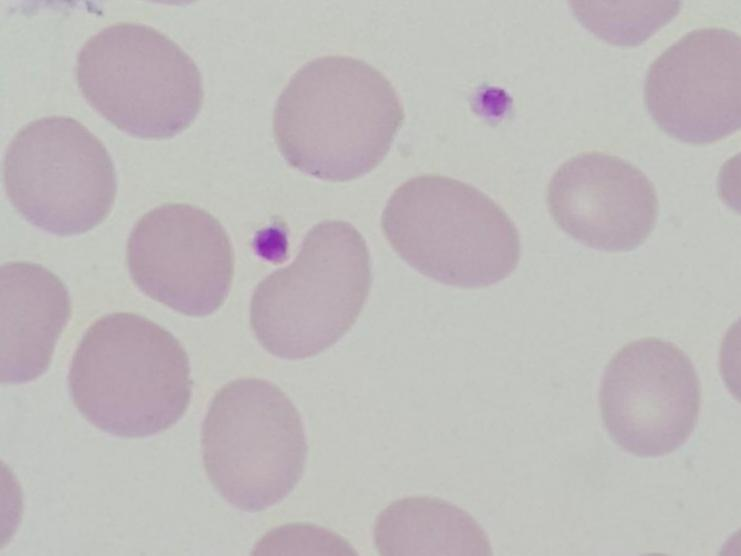Uninfected: (248, 220, 373, 359), (275, 54, 404, 183), (66, 313, 192, 439), (382, 176, 520, 287), (199, 378, 310, 514), (74, 22, 203, 139), (2, 114, 116, 235), (594, 337, 701, 460), (125, 203, 234, 317), (641, 26, 741, 144), (544, 150, 659, 251), (1, 263, 68, 382)
